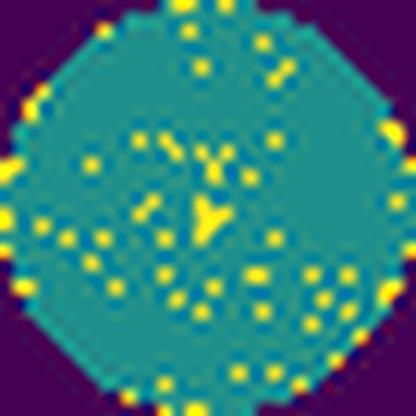Center: (191, 193, 235, 247)
